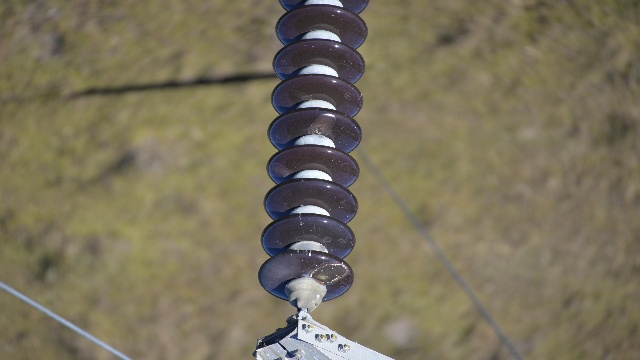insulator_unspecified: (260, 0, 370, 304)
pollution_flashover_local: (308, 261, 351, 288), (309, 114, 336, 139), (269, 161, 293, 178)
